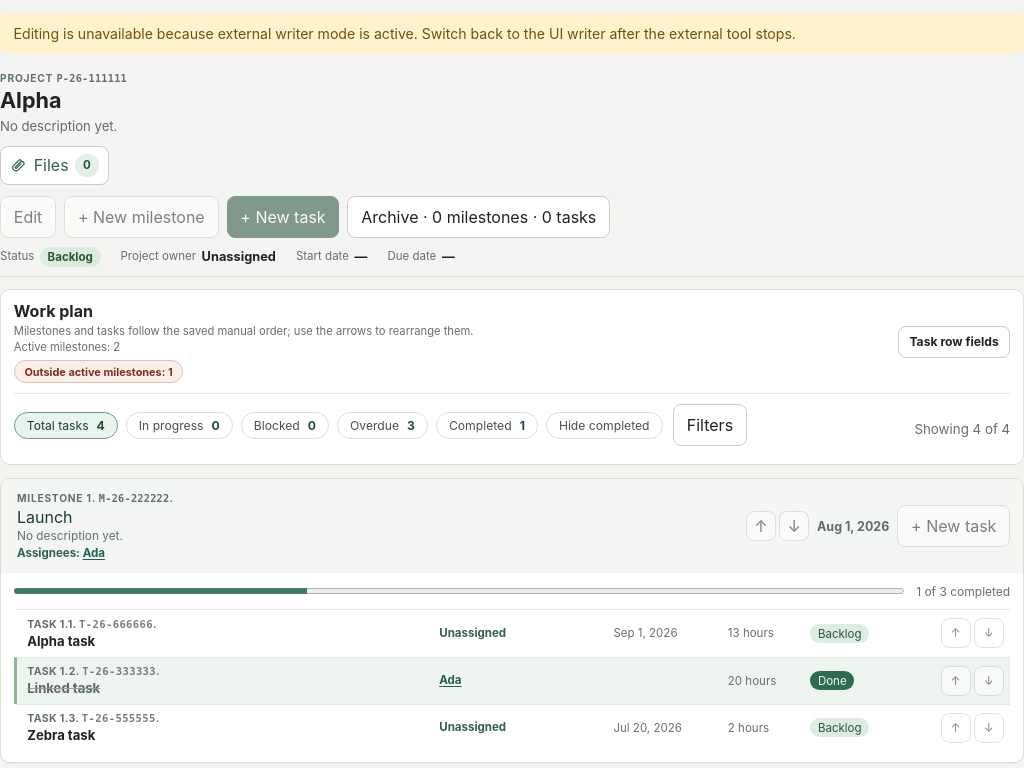
Test: ProjectPlanWorkspace › disables uploads in external writer mode while keeping the file list available
Click the button "Files 0": point(55, 165) [0,146,109,185]
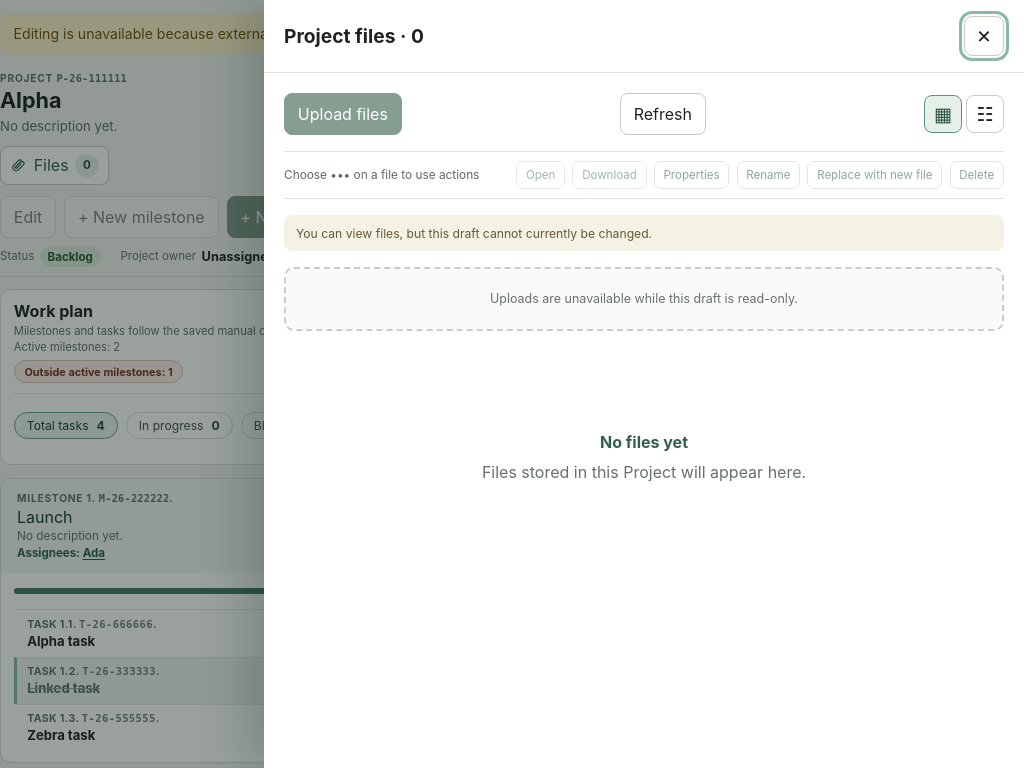
Check: the button "Upload files" is disabled, box [284,93,402,135]
Check: the text "Uploads are unavailable while this draft is read-only." is shown, box [284,267,1004,331]
